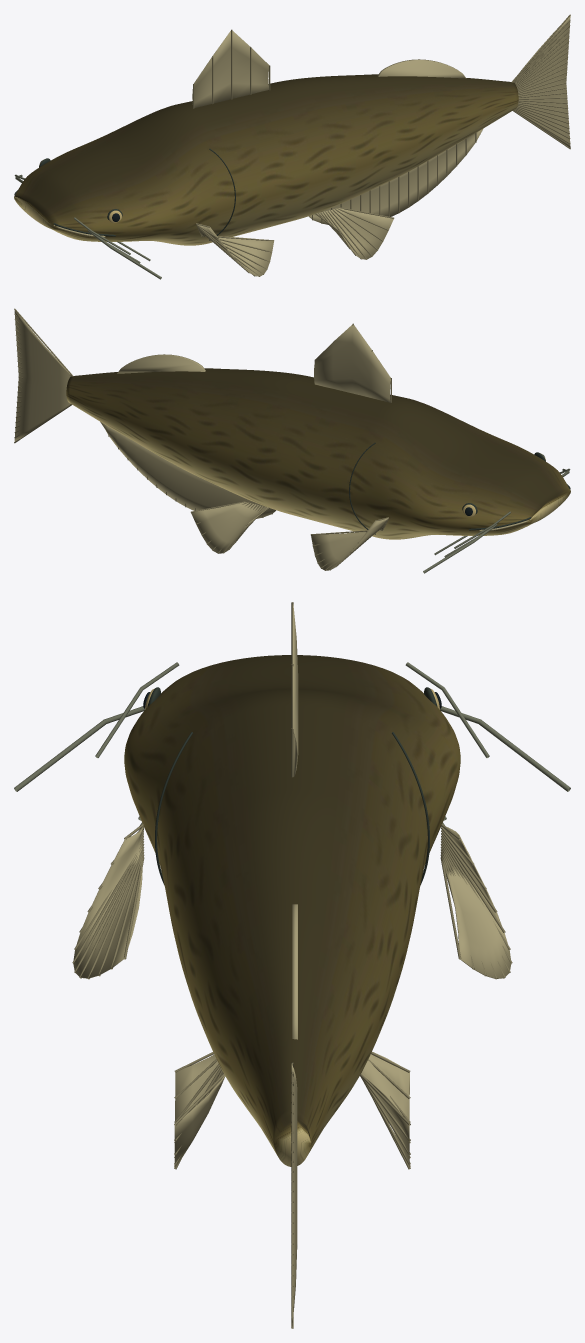
File: flathead-catfish.glb
3 views of the same model, one above another, from view 1: azimuth 30°, elevation 25°; view 2: azimuth 150°, elevation 25°; view 3: azimuth 270°, elevation 25° (orthographic). The views are drawn at different scales.
Visible parts, largest first — view 1: flathead-catfish specimen; view 2: flathead-catfish specimen; view 3: flathead-catfish specimen.
Part boxes in pixels (bbox=[...]): flathead-catfish specimen: bbox=[14, 14, 570, 279]; flathead-catfish specimen: bbox=[14, 308, 570, 573]; flathead-catfish specimen: bbox=[14, 602, 570, 1328].
Bounding box in the file's own units: 2.26 × 0.944 × 1.03.
Materials: 9 (1 with a texture image).
